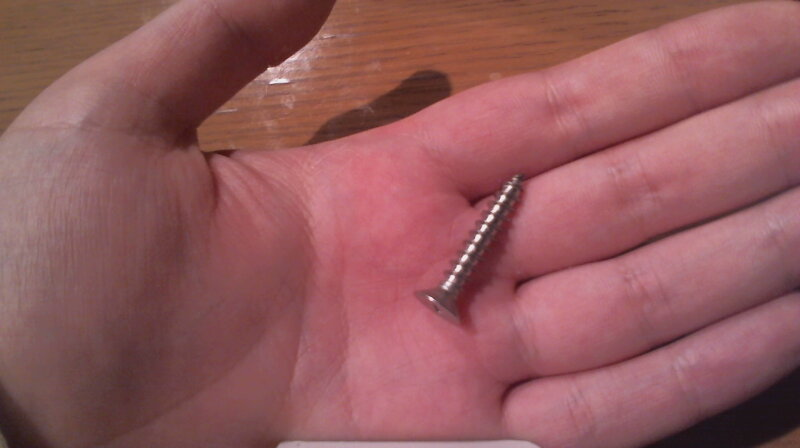S001: (411, 168, 531, 326)
